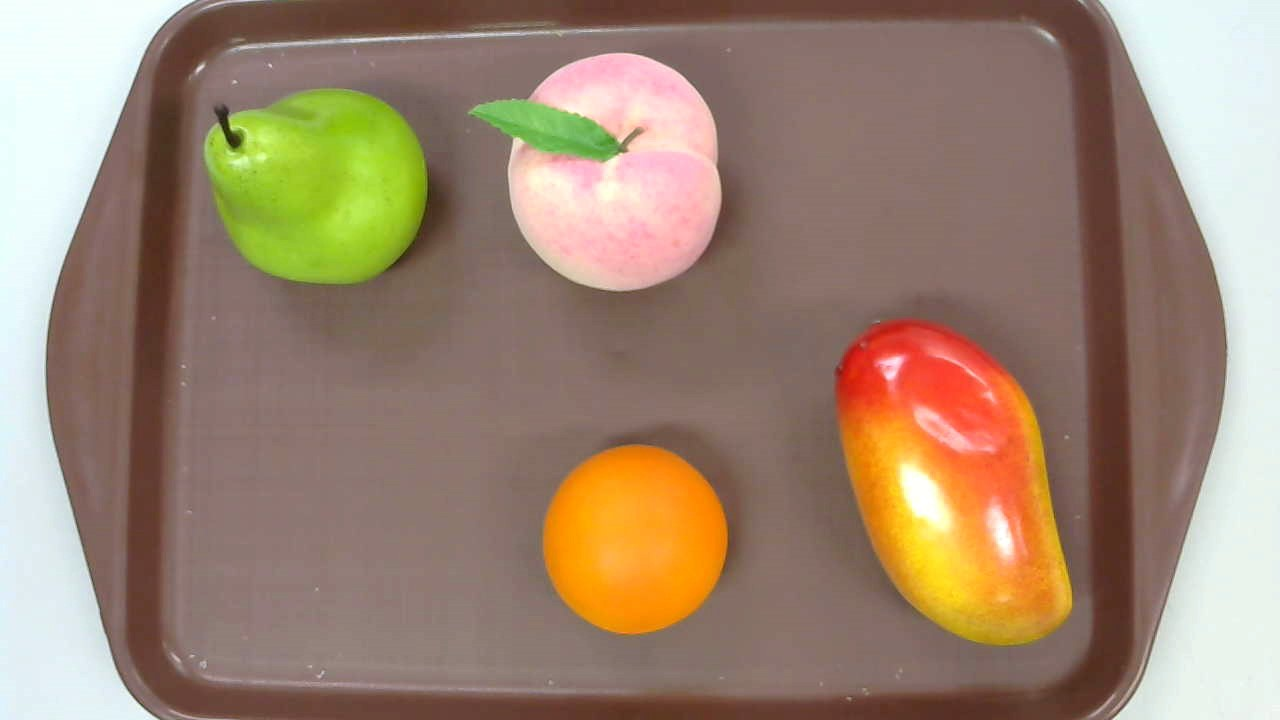bun: (542, 444, 728, 635)
green pear: (203, 88, 427, 286)
peach: (467, 53, 723, 293)
red mango: (835, 316, 1072, 646)
